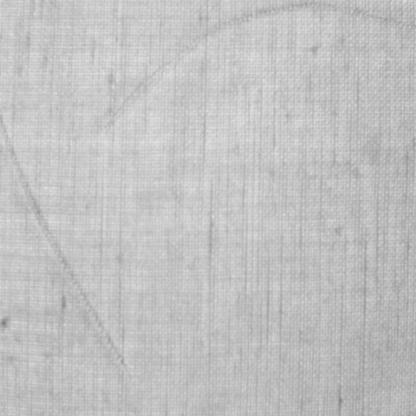objects: (99, 0, 416, 131), (0, 99, 134, 381)
